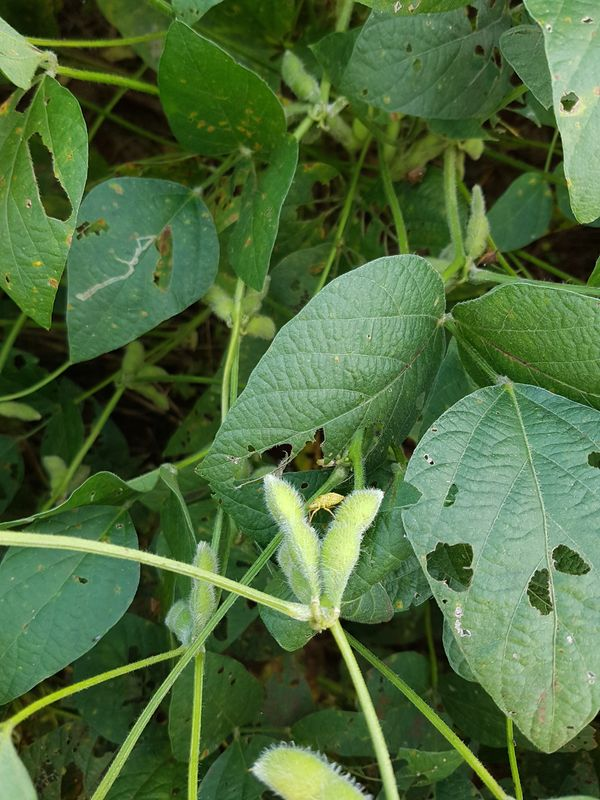Euschistus_heros_adulto: (470, 244, 503, 277), (400, 159, 433, 190)
Euschistus_heros_ninfa: (299, 484, 350, 530)
